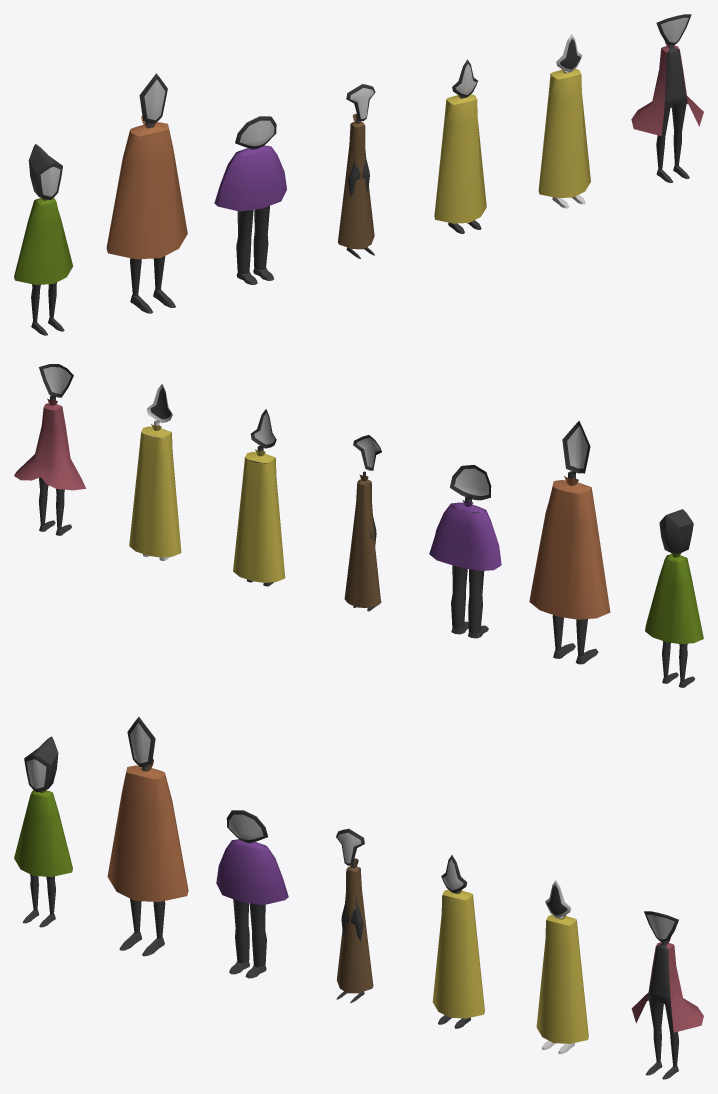
Rendered from Character test.fbx.
The picture shows the model from 3 angles, top to bottom: view 1: azimuth 30°, elevation 25°; view 2: azimuth 150°, elevation 25°; view 3: azimuth 330°, elevation 25°; orthographic projection.
Parts seen in each view (by area): view 1: pasted__pasted__polySurface8 (×2), polySurface20, polySurface21, pasted__polySurface8, polySurface19, pasted__pasted__polySurface7 (×2), pasted__pasted__pasted__pasted__pasted__pasted__polySurface7, pasted__polySurface17, polySurface14, pasted__pasted__polySurface15 (×2), pasted__polySurface16, polySurface13 (+3 smaller); view 2: pasted__pasted__polySurface8 (×2), polySurface21, polySurface20, pasted__polySurface8, polySurface19, pasted__polySurface17, pasted__pasted__polySurface7 (×2), polySurface14, pasted__pasted__polySurface15 (×2), pasted__polySurface16, polySurface13, pasted__polySurface9 (+3 smaller); view 3: pasted__pasted__polySurface8 (×2), polySurface21, polySurface20, pasted__polySurface8, polySurface19, pasted__pasted__polySurface7 (×2), pasted__pasted__pasted__pasted__pasted__pasted__polySurface7, pasted__polySurface17, polySurface14, polySurface13, pasted__polySurface16, pasted__polySurface9 (+1 smaller).
Part boxes in pixels (bbox=[...]): pasted__pasted__polySurface8 (×2): bbox=[106, 115, 286, 259]; polySurface20: bbox=[434, 94, 486, 223]; polySurface21: bbox=[538, 68, 590, 198]; pasted__polySurface8: bbox=[14, 197, 73, 284]; polySurface19: bbox=[338, 113, 374, 249]; pasted__pasted__polySurface7 (×2): bbox=[130, 121, 269, 295]; pasted__pasted__pasted__pasted__pasted__pasted__polySurface7: bbox=[656, 44, 687, 170]; pasted__polySurface17: bbox=[631, 41, 703, 135]; polySurface14: bbox=[28, 144, 62, 199]; pasted__pasted__polySurface15 (×2): bbox=[346, 59, 477, 121]; pasted__polySurface16: bbox=[235, 116, 276, 148]; polySurface13: bbox=[139, 73, 167, 123]; pasted__pasted__polySurface8 (×2): bbox=[429, 476, 610, 619]; polySurface21: bbox=[129, 424, 181, 557]; polySurface20: bbox=[233, 449, 285, 582]; pasted__polySurface8: bbox=[645, 553, 703, 644]; polySurface19: bbox=[344, 474, 381, 607]; pasted__polySurface17: bbox=[14, 398, 86, 490]; pasted__pasted__polySurface7 (×2): bbox=[451, 471, 587, 656]; polySurface14: bbox=[659, 509, 693, 553]; pasted__pasted__polySurface15 (×2): bbox=[250, 409, 381, 470]; pasted__polySurface16: bbox=[450, 465, 491, 500]; polySurface13: bbox=[562, 421, 590, 473]; pasted__polySurface9: bbox=[39, 364, 73, 397]; pasted__pasted__polySurface8 (×2): bbox=[107, 758, 288, 904]; polySurface21: bbox=[536, 915, 588, 1043]; polySurface20: bbox=[432, 889, 484, 1018]; pasted__polySurface8: bbox=[14, 790, 72, 876]; polySurface19: bbox=[336, 858, 373, 993]; pasted__pasted__polySurface7 (×2): bbox=[130, 764, 266, 967]; pasted__pasted__pasted__pasted__pasted__pasted__polySurface7: bbox=[648, 941, 679, 1066]; pasted__polySurface17: bbox=[631, 938, 703, 1032]; polySurface14: bbox=[24, 736, 58, 792]; polySurface13: bbox=[127, 717, 155, 766]; pasted__polySurface16: bbox=[226, 810, 267, 842]; pasted__polySurface9: bbox=[644, 911, 678, 941].
Bounding box in the file's own units: 6.62 × 2.14 × 0.4715.
